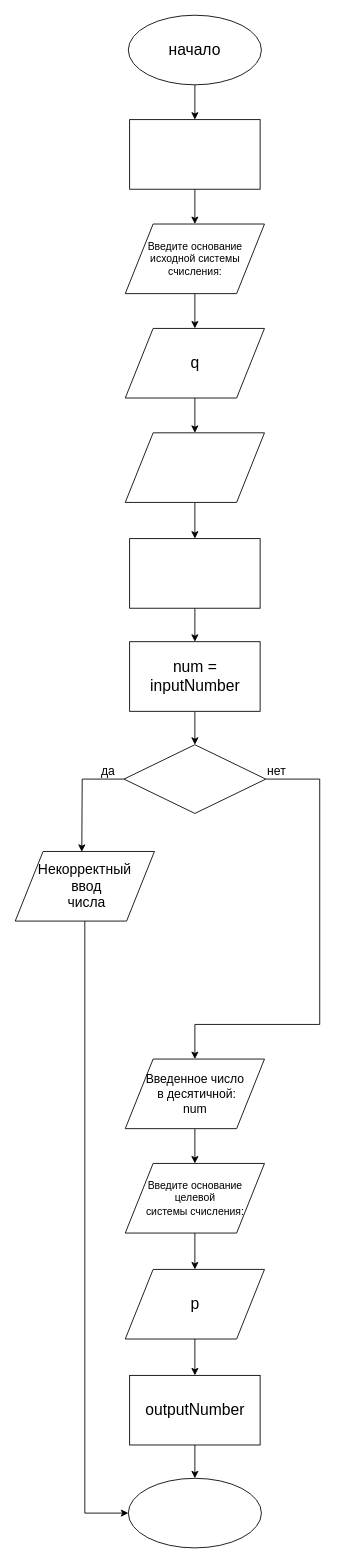
Some shapes in this 342 by 1563 pixel diagram are drawn without their labels. Here are the shapes that lost their labels. From the top down, the centre of each, then its label:
(194,154): p, q
(194,467): Введите число:
(194,573): num
(194,778): num == -1
(194,1512): конец
